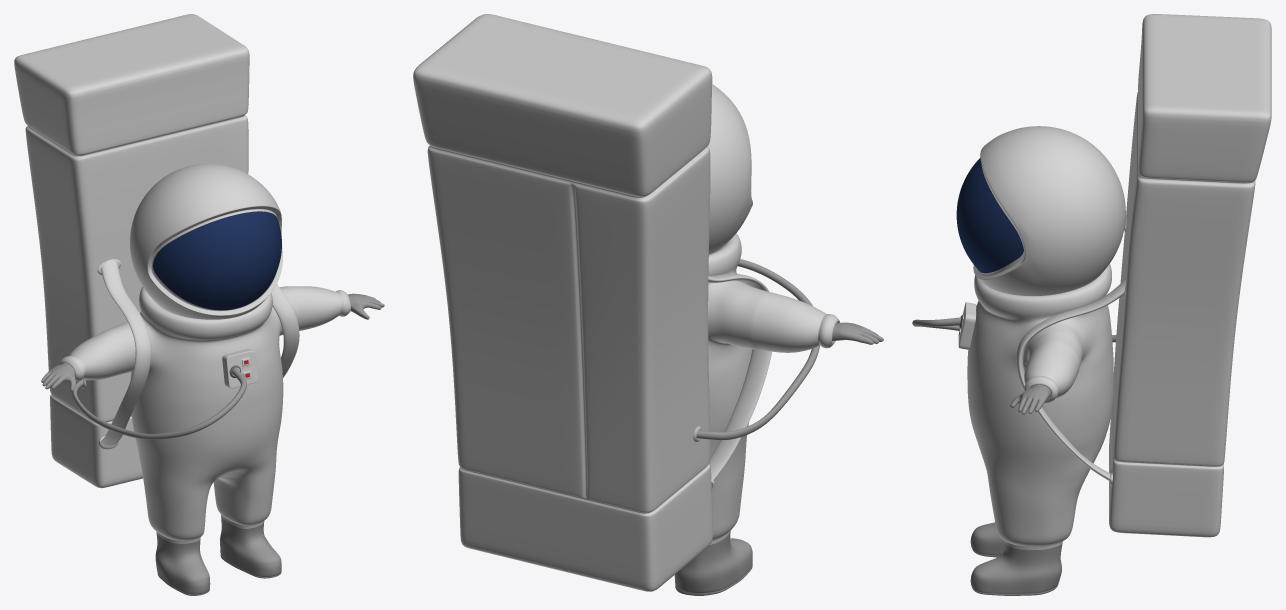
3 views of the same model, side by side, from view 1: azimuth 30°, elevation 25°; view 2: azimuth 150°, elevation 25°; view 3: azimuth 270°, elevation 25° (orthographic). The views are drawn at different scales.
Parts seen in each view (by area): view 1: pCube1, pasted__pCylinder6, pSphere1, side3, pTorus1, side5, polySurface4; view 2: pCube1, pasted__pCylinder6, pSphere1, side3, pTorus1; view 3: pCube1, pasted__pCylinder6, pSphere1, side5, polySurface4, pTorus1.
Part boxes in pixels (left/top/right/bottom): pCube1: left=14, top=14, right=249, bottom=488; pasted__pCylinder6: left=41, top=286, right=384, bottom=595; pSphere1: left=130, top=163, right=282, bottom=319; side3: left=97, top=259, right=151, bottom=449; pTorus1: left=72, top=368, right=246, bottom=439; side5: left=271, top=284, right=299, bottom=377; polySurface4: left=222, top=349, right=258, bottom=388; pCube1: left=413, top=14, right=712, bottom=591; pasted__pCylinder6: left=674, top=233, right=883, bottom=595; pSphere1: left=707, top=84, right=752, bottom=254; side3: left=708, top=273, right=771, bottom=488; pTorus1: left=696, top=259, right=819, bottom=439; pCube1: left=1109, top=14, right=1271, bottom=537; pasted__pCylinder6: left=967, top=264, right=1113, bottom=595; pSphere1: left=956, top=126, right=1125, bottom=295; side5: left=1016, top=278, right=1126, bottom=486; polySurface4: left=958, top=302, right=976, bottom=349; pTorus1: left=912, top=317, right=1116, bottom=342.
Size of the model in its own units: 11.51 by 14.92 by 9.55.
